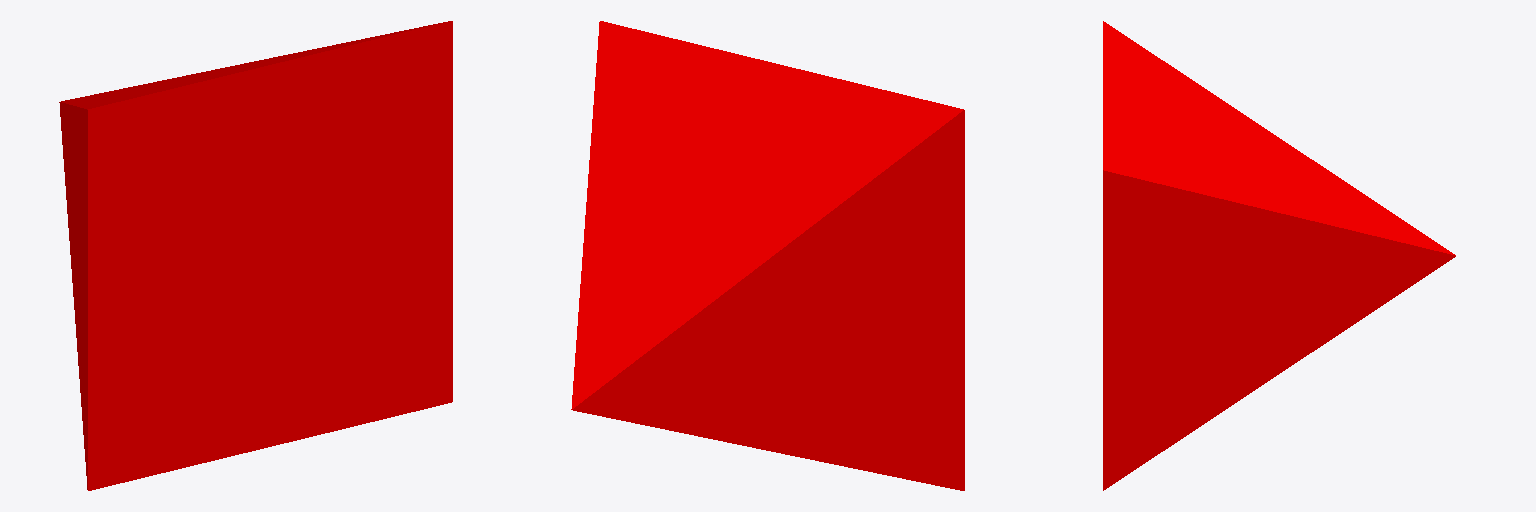
The robot description file, URDF, robot "pyramid":
<?xml version="1.0" ?>
<robot name="pyramid">
  <link name="baseLink">
    <contact>
      <lateral_friction value="1.0"/>
      <rolling_friction value="0.0"/>
      <contact_cfm value="0.0"/>
      <contact_erp value="1.0"/>
    </contact>
    <inertial>
      <origin rpy="0 0 0" xyz="0 0 0"/>
       <mass value="1.0"/>
       <inertia ixx="1" ixy="0" ixz="0" iyy="1" iyz="0" izz="1"/>
    </inertial>
    <visual>
      <origin rpy="0 0 0" xyz="0 0 0"/>
      <geometry>
				<mesh filename="pyramid.obj" scale="0.5 0.5 0.5"/>
      </geometry>
       <material name="green">
        <color rgba="1 0 0 1"/>
      </material>
    </visual>
    <collision>
      <origin rpy="0 0 0" xyz="0 0 0"/>
      <geometry>
	 	<mesh filename="pyramid.obj" scale="0.5 0.5 0.5"/>
      </geometry>
    </collision>
  </link>
</robot>

--- Render facts (derived) ---
The picture shows the robot from 3 angles, left to right: view 1: azimuth 30°, elevation 25°; view 2: azimuth 150°, elevation 25°; view 3: azimuth 270°, elevation 25°; orthographic projection.
Robot: pyramid — 1 links, 0 joints (none); root link baseLink; default pose: every joint at zero.
Visible links, largest first — view 1: baseLink; view 2: baseLink; view 3: baseLink.
Link boxes in pixels (left/top/right/bottom): baseLink: left=59, top=21, right=452, bottom=490; baseLink: left=571, top=21, right=964, bottom=490; baseLink: left=1103, top=21, right=1455, bottom=490.
Size in the robot's own frame: 1 by 1 by 1 metres.
Meshes: 1 distinct files referenced, 1 mesh visuals loaded (1 OBJ).